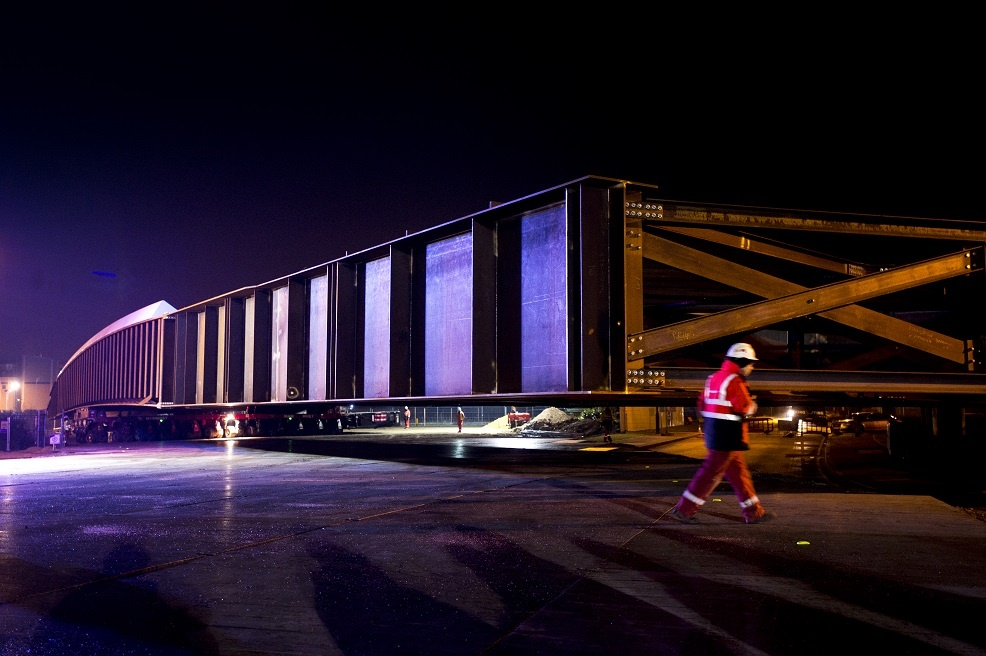white: (723, 339, 758, 380)
